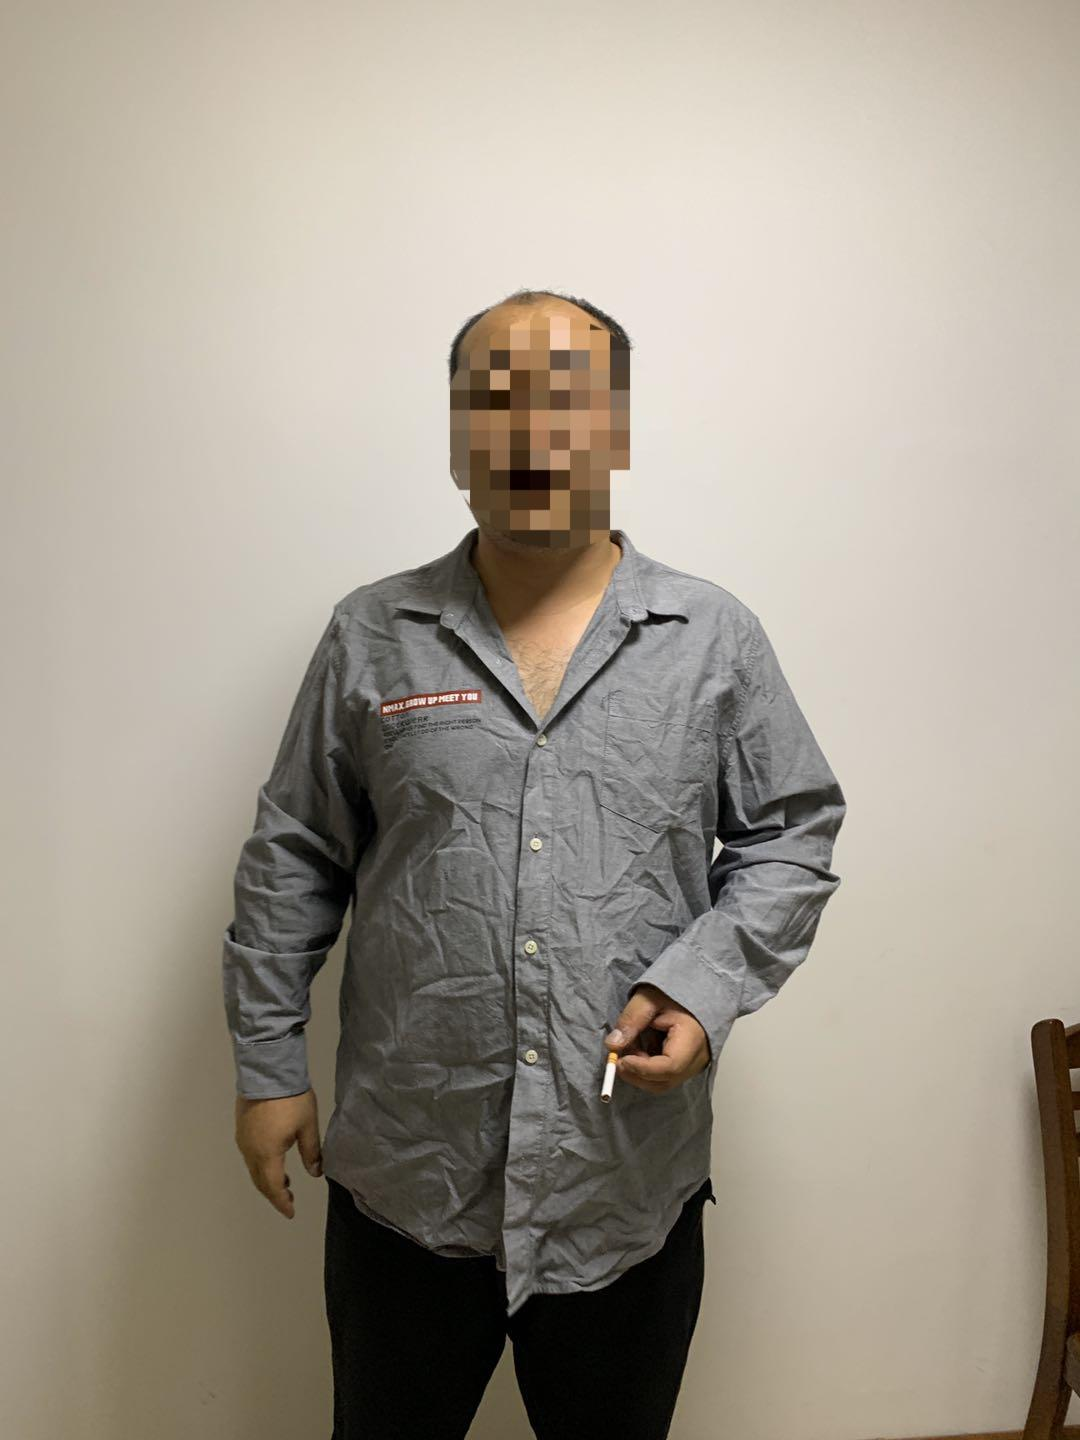smoke: (594, 1047, 626, 1110)
